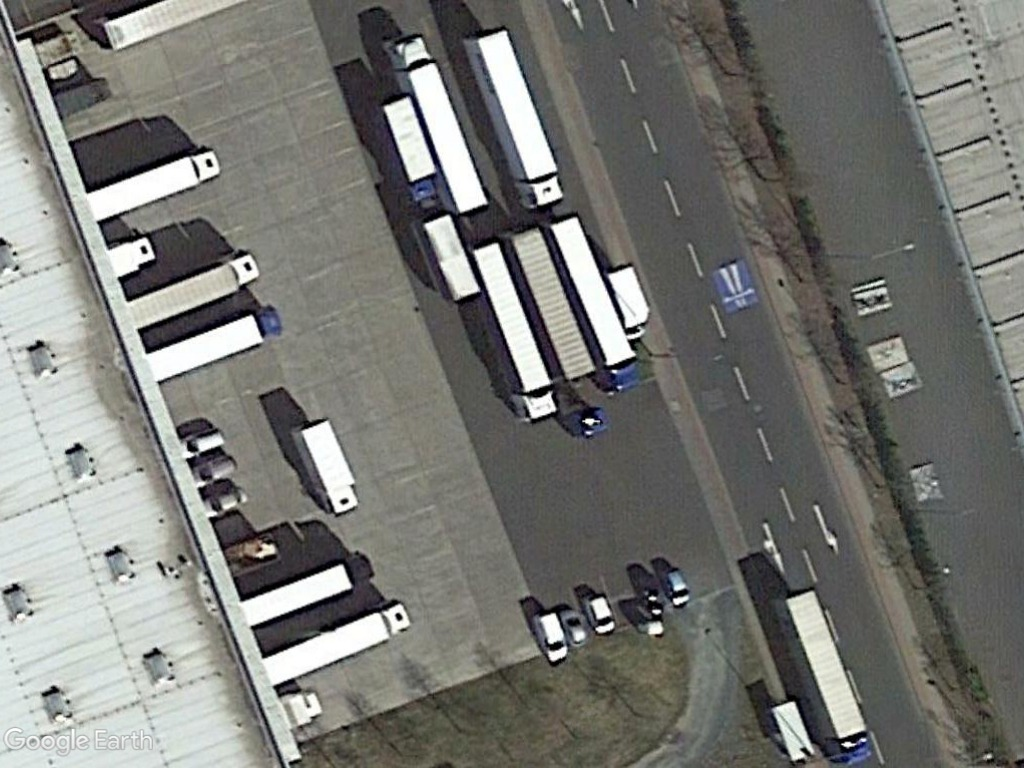car: (580, 585, 618, 642)
longvehicle: (462, 27, 570, 216), (383, 31, 490, 217), (462, 239, 563, 426), (771, 588, 875, 767), (545, 207, 636, 392), (260, 599, 415, 685), (141, 302, 280, 387), (123, 248, 261, 331), (238, 550, 377, 631), (86, 145, 222, 227), (375, 93, 446, 207)
truck: (288, 412, 362, 517)
van: (605, 259, 654, 339), (525, 599, 574, 673), (659, 559, 695, 614)
